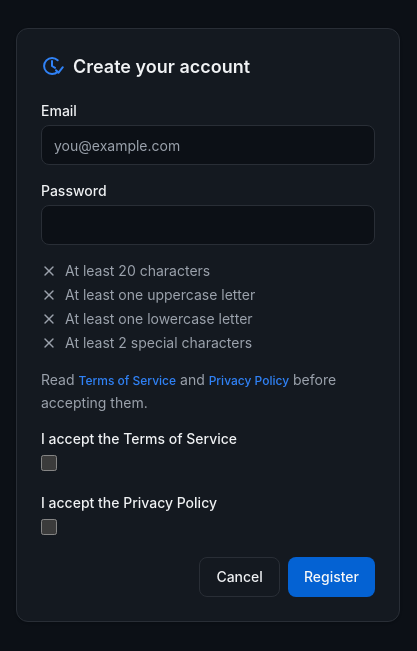
UserCreationPage › shows validation error for invalid email
In the field named "email": (208, 145) [41,125,375,165], type "a@b"
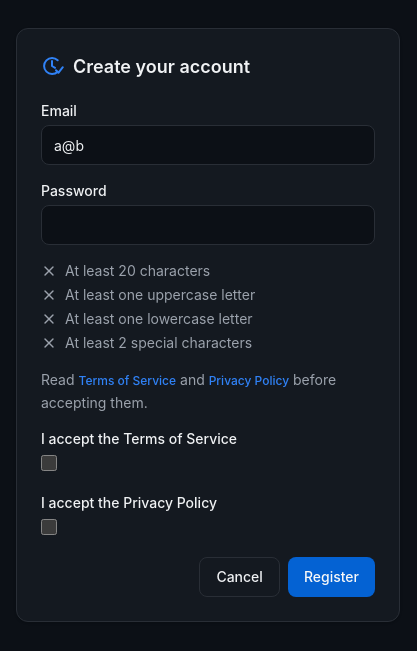
In the password field named "password": (208, 225) [41,205,375,245], type "Str0ng-Passphrase!!x"
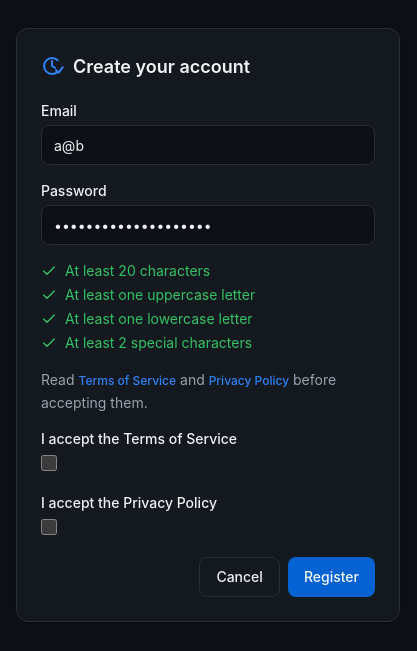
Click the button "Register": click(331, 577) [288,557,375,597]
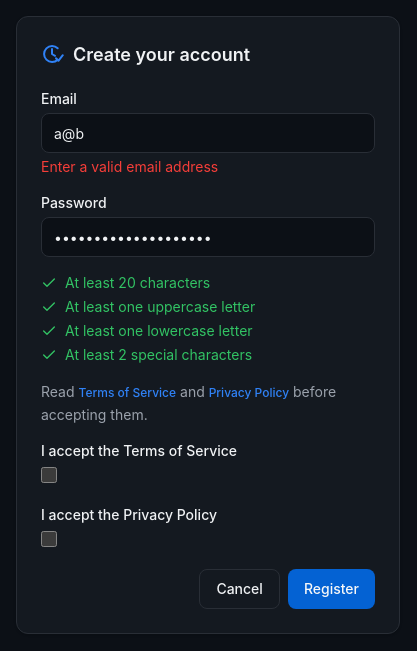
Check: the message "Enter a valid email address" is shown, box [41,158,218,175]
